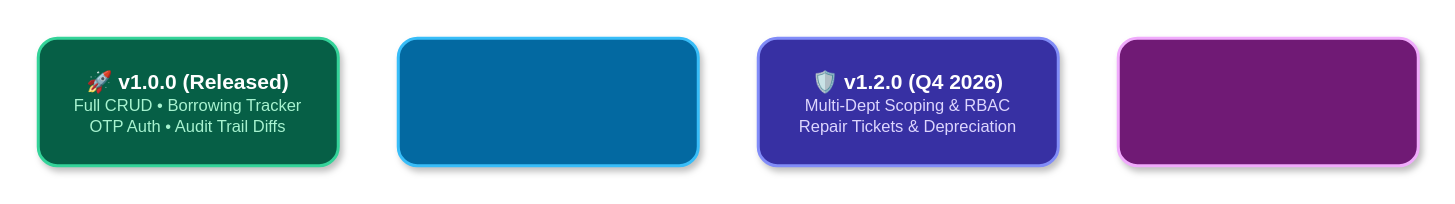
This 1455x204 diagram has some shape labels left out. The centre of each missing label's shape, as x and y in pixels:
⚡ v1.1.0 (Q3 2026) QR Scanner • Overdue Emails PDF Reports • Multi-Exports: the point at 549,103
🔮 v2.0.0 (2027 Vision) Mobile Offline PWA JWT REST API • WebSockets: the point at 1269,103
